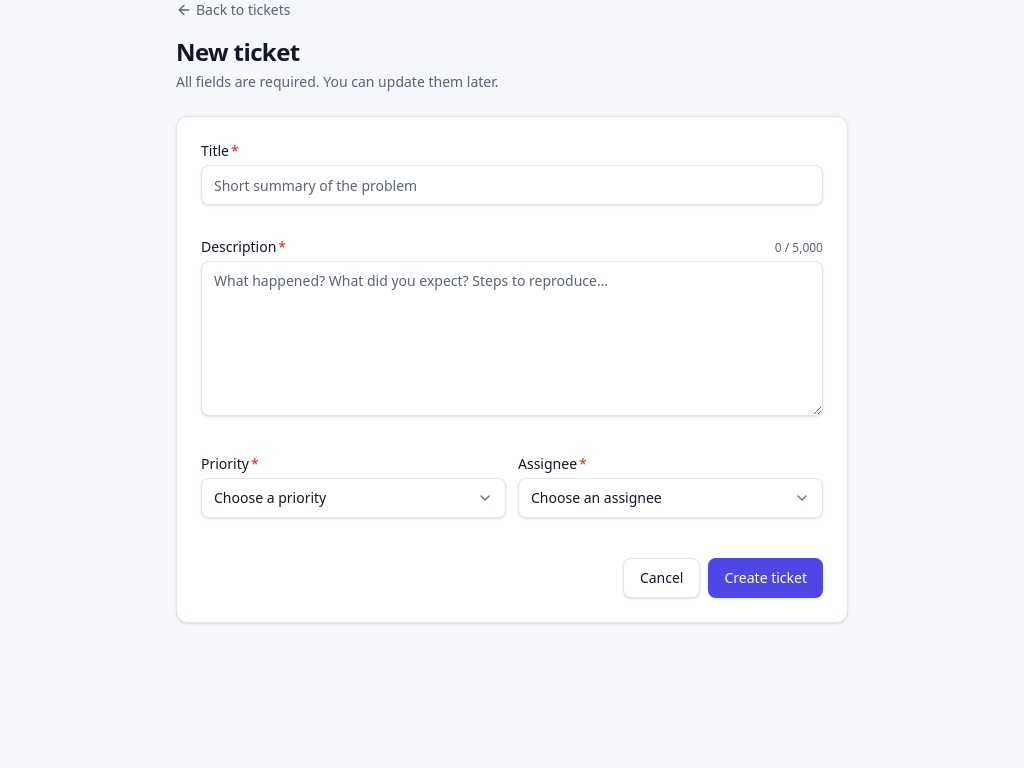
Create ticket › empty submit shows a modal listing all four problems and highlights fields
Click the button "Create ticket" at (766,578), box left=708, top=558, right=823, bottom=598
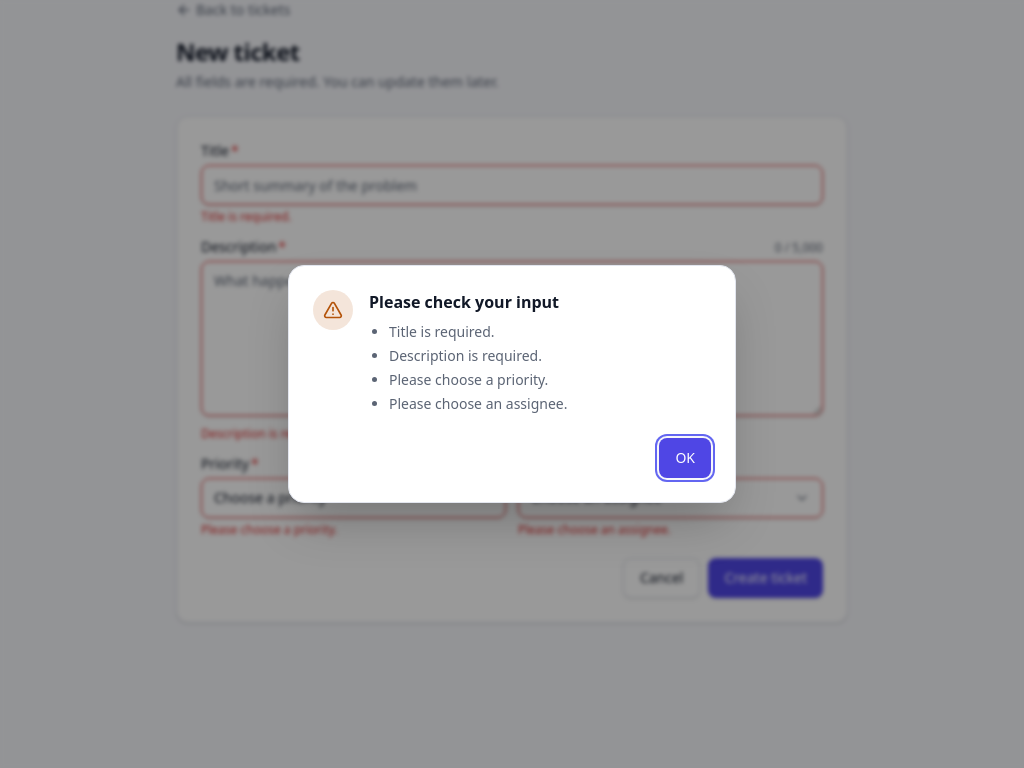
expect the list items read "Title is required.", "Description is required.", "Please choose a priority.", "Please choose an assignee.", in this order: met, box left=389, top=322, right=495, bottom=341; left=389, top=346, right=542, bottom=365; left=389, top=370, right=548, bottom=389; left=389, top=394, right=568, bottom=413
